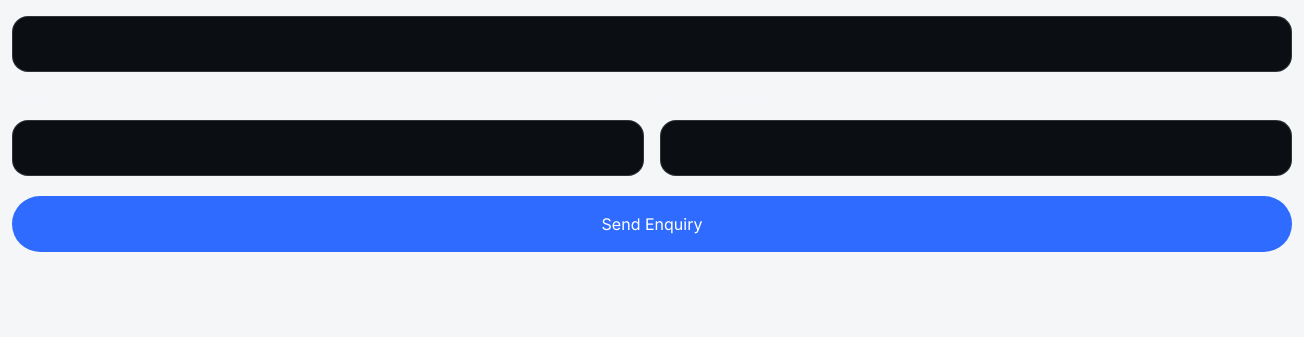
Test: LeadForm › announces server validation errors and focuses the first field
Step 1. Click the button "Send Enquiry" → click(652, 224), box 12,196 -> 1292,252
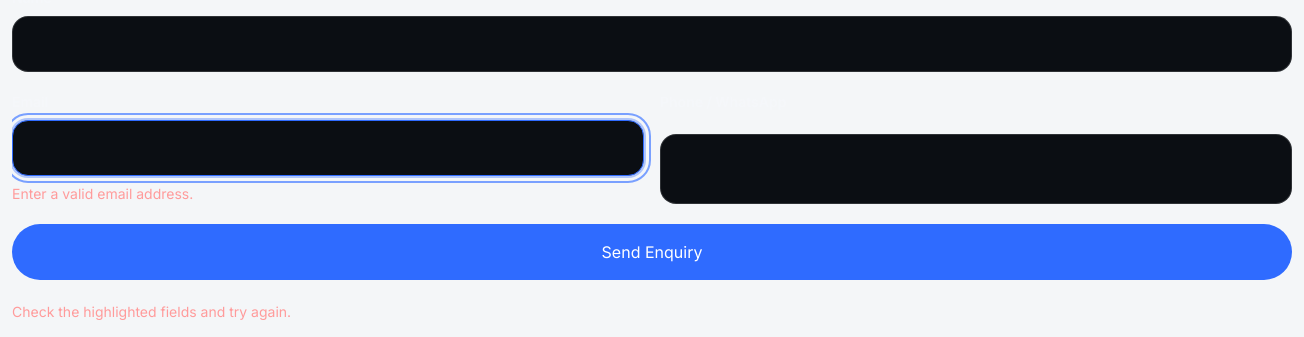
Result: the text "Enter a valid email address." is shown at 12,185 -> 193,202
